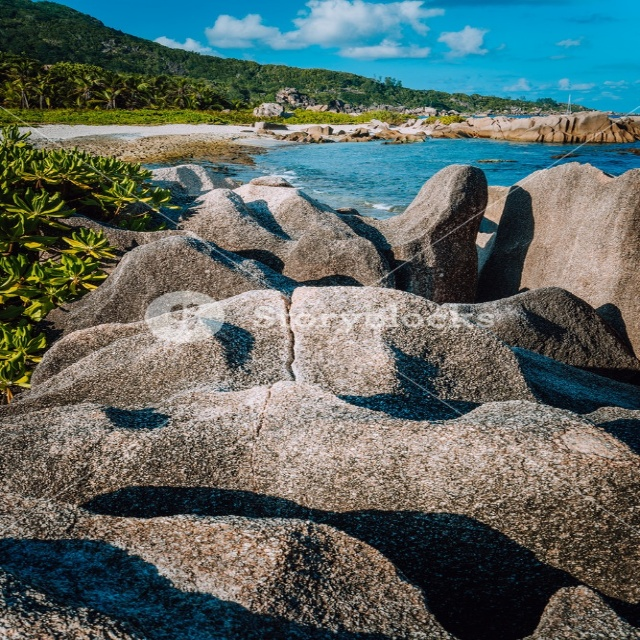obstacle: (3, 236, 637, 639), (374, 166, 484, 276)
